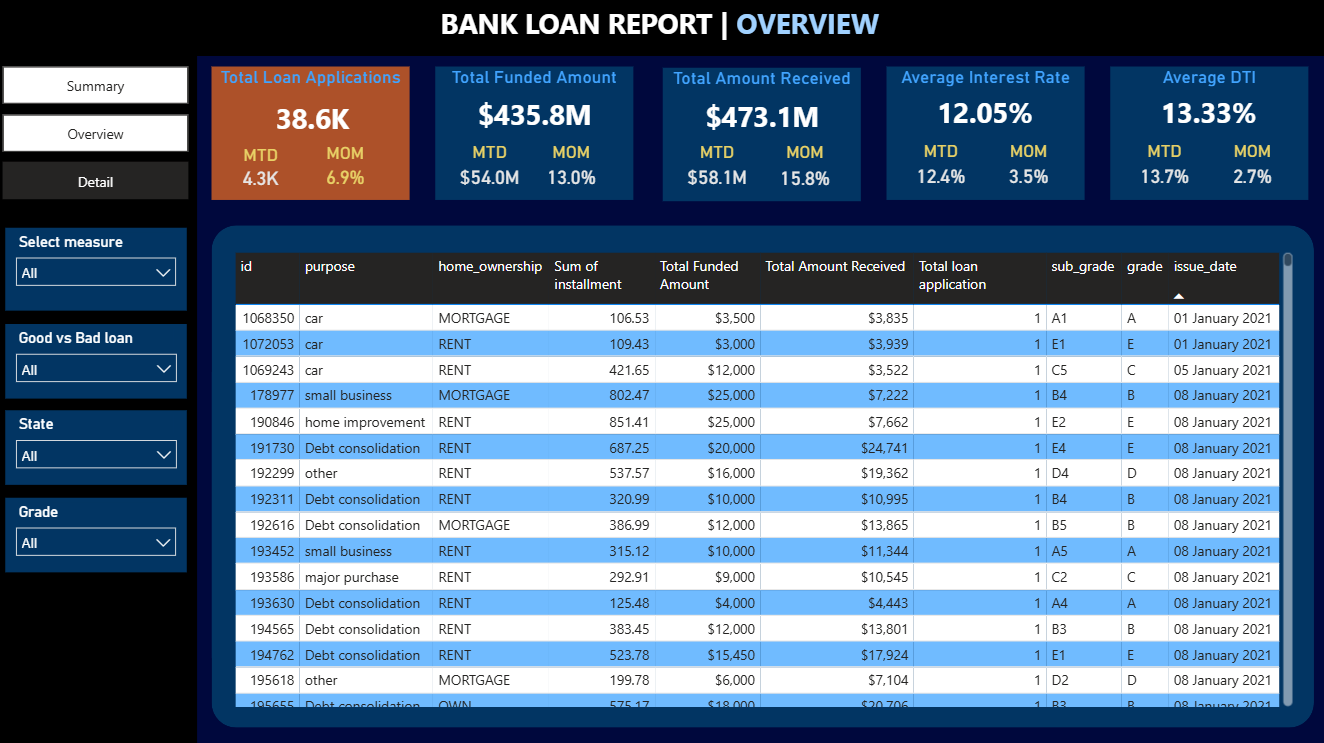

Layout of this report page (visuals, bound fields, positions):
{"tool":"powerbi","page":{"name":"Overview","canvas":[1280,720],"ordinal":1},"visuals":[{"type":"shape","box":[0,0,1280.3,55],"z":0},{"type":"textbox","title":" Total Funded Amount","box":[421.1,65.1,191.4,129],"z":1000,"group":"g2"},{"type":"textbox","title":"Average Interest Rate","box":[856,65.1,191.4,129],"z":1000,"group":"g4"},{"type":"textbox","title":"Average DTI","box":[1072.1,65.1,191.4,129],"z":1000,"group":"g5"},{"type":"textbox","title":"Total Loan Applications","box":[204.9,65.7,191.4,129],"z":1000,"group":"g1"},{"type":"textbox","title":"Total Amount Received","box":[640.1,65.9,191.4,129],"z":1000,"group":"g3"},{"type":"card","fields":{"Values":["financial_loan.Total loan application"]},"box":[195.7,85.7,195.7,43.2],"z":1000},{"type":"card","fields":{"Values":["financial_loan.Total loan application"]},"box":[415.7,85.7,195.7,43.2],"z":2000},{"type":"card","title":"MTD","fields":{"Values":["financial_loan.MTD avg int rate"]},"box":[874,136.8,68.7,51.9],"z":2000,"group":"g4"},{"type":"card","title":"MTD","fields":{"Values":["financial_loan.MTD avg dti"]},"box":[1090.1,136.8,68.7,51.9],"z":2000,"group":"g5"},{"type":"card","title":"MTD","fields":{"Values":["financial_loan.MTD funded amount"]},"box":[436.7,137.3,73.6,51],"z":2000,"group":"g2"},{"type":"card","title":"MTD","fields":{"Values":["financial_loan.MTD total amt recieved"]},"box":[658.1,137.6,68.7,51.9],"z":2000,"group":"g3"},{"type":"card","title":"MTD","fields":{"Values":["financial_loan.MTD loan application"]},"box":[223.7,140.2,56.5,48.3],"z":2000,"group":"g1"},{"type":"shape","box":[0,54.7,191.3,666],"z":3000},{"type":"card","title":"MOM","fields":{"Values":["financial_loan.MOM avg int rate"]},"box":[958,135.9,69.4,52.4],"z":3000,"group":"g4"},{"type":"card","title":"MOM","fields":{"Values":["financial_loan.MOM avg dti"]},"box":[1174.1,135.9,69.4,52.4],"z":3000,"group":"g5"},{"type":"card","title":"MOM","fields":{"Values":["financial_loan.MOM total amt received"]},"box":[742.1,136.7,69.4,52.4],"z":3000,"group":"g3"},{"type":"card","title":"MOM","fields":{"Values":["financial_loan.MOM funded amount"]},"box":[516,137.3,72.2,51],"z":3000,"group":"g2"},{"type":"card","title":"MOM","fields":{"Values":["financial_loan.MOM loan application"]},"box":[305.5,139.3,58.1,49.6],"z":3000,"group":"g1"},{"type":"textbox","box":[421.5,0,527.9,59],"z":4000},{"type":"group","id":"g1","title":"Group 2","box":[204.9,65.7,191.4,129],"z":5000},{"type":"group","id":"g2","title":"Group 1","box":[421.1,65.1,191.4,129],"z":6000},{"type":"group","id":"g3","title":"Group 1","box":[640.1,65.9,191.4,129],"z":7000},{"type":"group","id":"g4","title":"Group 1","box":[856,65.1,192.6,128.9],"z":8000},{"type":"card","fields":{"Values":["financial_loan.Total loan application"]},"box":[241.2,92.6,122.4,48.4],"z":8000,"group":"g1"},{"type":"card","fields":{"Values":["financial_loan.Average Interest Rate"]},"box":[885.4,86.8,131.9,47.8],"z":8001,"group":"g4"},{"type":"card","fields":{"Values":["financial_loan.Average DTI"]},"box":[1101.5,86.8,131.9,47.8],"z":8001,"group":"g5"},{"type":"card","fields":{"Values":["financial_loan.Total Funded Amount"]},"box":[450.7,88,131.8,48.4],"z":8001,"group":"g2"},{"type":"card","fields":{"Values":["financial_loan.Total Amount Received"]},"box":[669.7,90.1,131.8,48.4],"z":8001,"group":"g3"},{"type":"group","id":"g5","title":"Group 1","box":[1072.1,65.1,192.6,128.9],"z":9000},{"type":"slicer","fields":{"Values":["financial_loan.purpose"]},"box":[6,329.2,174.9,71.2],"z":10000},{"type":"slicer","fields":{"Values":["financial_loan.address_state"]},"box":[5.5,413.4,175.5,71.9],"z":11000},{"type":"shape","box":[201.5,235.3,363.1,255.8],"z":12000},{"type":"slicer","fields":{"Values":["financial_loan.grade"]},"box":[6,496.9,174.9,72.4],"z":13000},{"type":"areaChart","fields":{"Y":["financial_loan.Total loan application","financial_loan.Total Funded Amount","financial_loan.Total Amount Received"],"Category":["Date Table.Month"]},"box":[211,240.2,343.8,243.1],"z":14000},{"type":"slicer","fields":{"Values":["Select measure.Select measure"]},"box":[6,237.5,174.9,79.6],"z":15000},{"type":"shape","box":[572.1,233,345.2,256.1],"z":16000},{"type":"shapeMap","fields":{"Value":["financial_loan.Total loan application"],"Category":["financial_loan.address_state"]},"box":[584.3,244.8,322.2,233],"z":17000},{"type":"shape","box":[927.9,231.6,345.2,256.1],"z":18000},{"type":"donutChart","fields":{"Y":["financial_loan.Total loan application","financial_loan.Total Funded Amount","financial_loan.Total Amount Received"],"Category":["financial_loan.term"]},"box":[943.4,244.9,312.5,232.8],"z":19000},{"type":"shape","box":[203.9,496.8,363.1,218.4],"z":20000},{"type":"shape","box":[574.3,497.1,345,217.2],"z":21000},{"type":"shape","box":[926.5,498.3,346.2,216],"z":22000},{"type":"barChart","fields":{"Y":["financial_loan.Total loan application","financial_loan.Total Funded Amount","financial_loan.Total Amount Received"],"Category":["financial_loan.emp_length"]},"box":[211.1,507.7,348.7,197.9],"z":23000},{"type":"barChart","fields":{"Y":["financial_loan.Total loan application","financial_loan.Total Funded Amount","financial_loan.Total Amount Received"],"Category":["financial_loan.purpose"]},"box":[576.7,507.9,348.7,197.9],"z":24000},{"type":"treemap","fields":{"Values":["financial_loan.Total loan application","financial_loan.Total Funded Amount","financial_loan.Total Amount Received"],"Group":["financial_loan.home_ownership"]},"box":[942.2,507.9,322.1,197.9],"z":25000},{"type":"pageNavigator","box":[4.8,66.4,179.8,129.1],"z":26000}]}

Visuals, with their boxes in screenshot pixels (x1, y1, x2, y2), scaled from the page's 1280x720 canvas onto the 1324x743 screenshot:
shape: bbox=(0, 0, 1323, 57)
" Total Funded Amount" textbox: bbox=(436, 67, 634, 200)
"Average Interest Rate" textbox: bbox=(885, 67, 1083, 200)
"Average DTI" textbox: bbox=(1109, 67, 1307, 200)
"Total Loan Applications" textbox: bbox=(212, 68, 410, 201)
"Total Amount Received" textbox: bbox=(662, 68, 860, 201)
card - financial_loan.Total loan application: bbox=(202, 88, 405, 133)
card - financial_loan.Total loan application: bbox=(430, 88, 632, 133)
"MTD" card: bbox=(904, 141, 975, 195)
"MTD" card: bbox=(1128, 141, 1199, 195)
"MTD" card: bbox=(452, 142, 528, 194)
"MTD" card: bbox=(681, 142, 752, 196)
"MTD" card: bbox=(231, 145, 290, 195)
shape: bbox=(0, 56, 198, 742)
"MOM" card: bbox=(991, 140, 1063, 194)
"MOM" card: bbox=(1214, 140, 1286, 194)
"MOM" card: bbox=(768, 141, 839, 195)
"MOM" card: bbox=(534, 142, 608, 194)
"MOM" card: bbox=(316, 144, 376, 195)
textbox: bbox=(436, 0, 982, 61)
"Group 2" group: bbox=(212, 68, 410, 201)
"Group 1" group: bbox=(436, 67, 634, 200)
"Group 1" group: bbox=(662, 68, 860, 201)
"Group 1" group: bbox=(885, 67, 1085, 200)
card - financial_loan.Total loan application: bbox=(249, 96, 376, 146)
card - financial_loan.Average Interest Rate: bbox=(916, 90, 1052, 139)
card - financial_loan.Average DTI: bbox=(1139, 90, 1276, 139)
card - financial_loan.Total Funded Amount: bbox=(466, 91, 603, 141)
card - financial_loan.Total Amount Received: bbox=(693, 93, 829, 143)
"Group 1" group: bbox=(1109, 67, 1308, 200)
slicer - financial_loan.purpose: bbox=(6, 340, 187, 413)
slicer - financial_loan.address_state: bbox=(6, 427, 187, 501)
shape: bbox=(208, 243, 584, 507)
slicer - financial_loan.grade: bbox=(6, 513, 187, 587)
areaChart - financial_loan.Total loan application x financial_loan.Total Funded Amount: bbox=(218, 248, 574, 499)
slicer - Select measure.Select measure: bbox=(6, 245, 187, 327)
shape: bbox=(592, 240, 949, 505)
shapeMap - financial_loan.Total loan application x financial_loan.address_state: bbox=(604, 253, 938, 493)
shape: bbox=(960, 239, 1317, 503)
donutChart - financial_loan.Total loan application x financial_loan.Total Funded Amount: bbox=(976, 253, 1299, 493)
shape: bbox=(211, 513, 586, 738)
shape: bbox=(594, 513, 951, 737)
shape: bbox=(958, 514, 1316, 737)
barChart - financial_loan.Total loan application x financial_loan.Total Funded Amount: bbox=(218, 524, 579, 728)
barChart - financial_loan.Total loan application x financial_loan.Total Funded Amount: bbox=(597, 524, 957, 728)
treemap - financial_loan.Total loan application x financial_loan.Total Funded Amount: bbox=(975, 524, 1308, 728)
pageNavigator: bbox=(5, 69, 191, 202)
